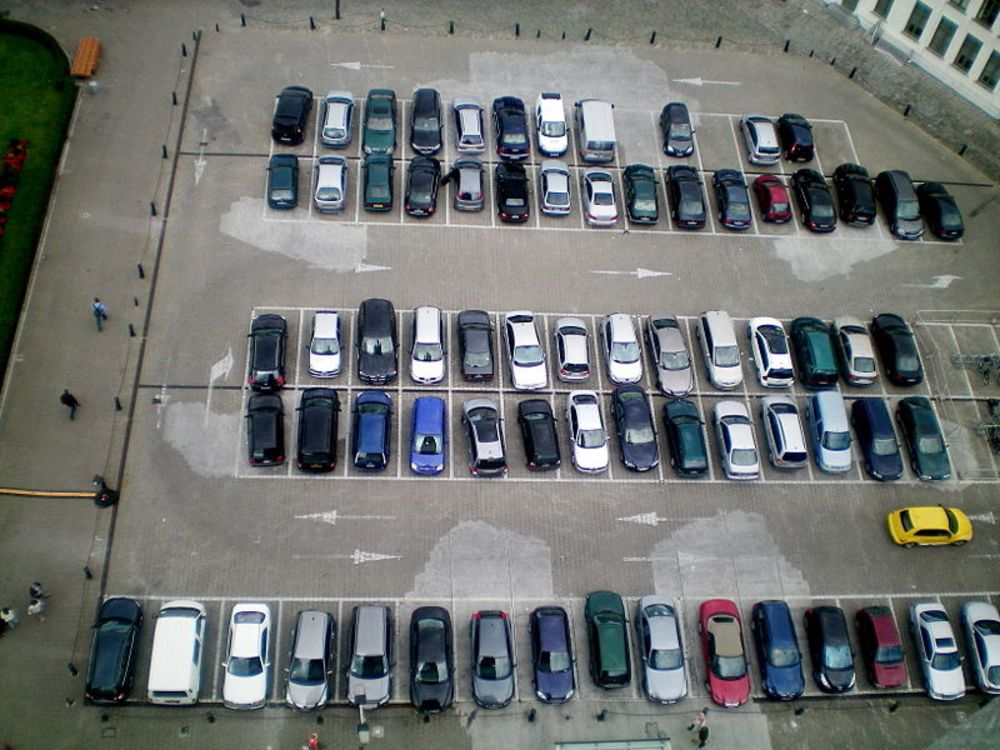empty_space: (924, 393, 999, 488), (912, 314, 976, 398), (688, 107, 744, 178), (608, 101, 662, 173), (808, 116, 860, 182)
